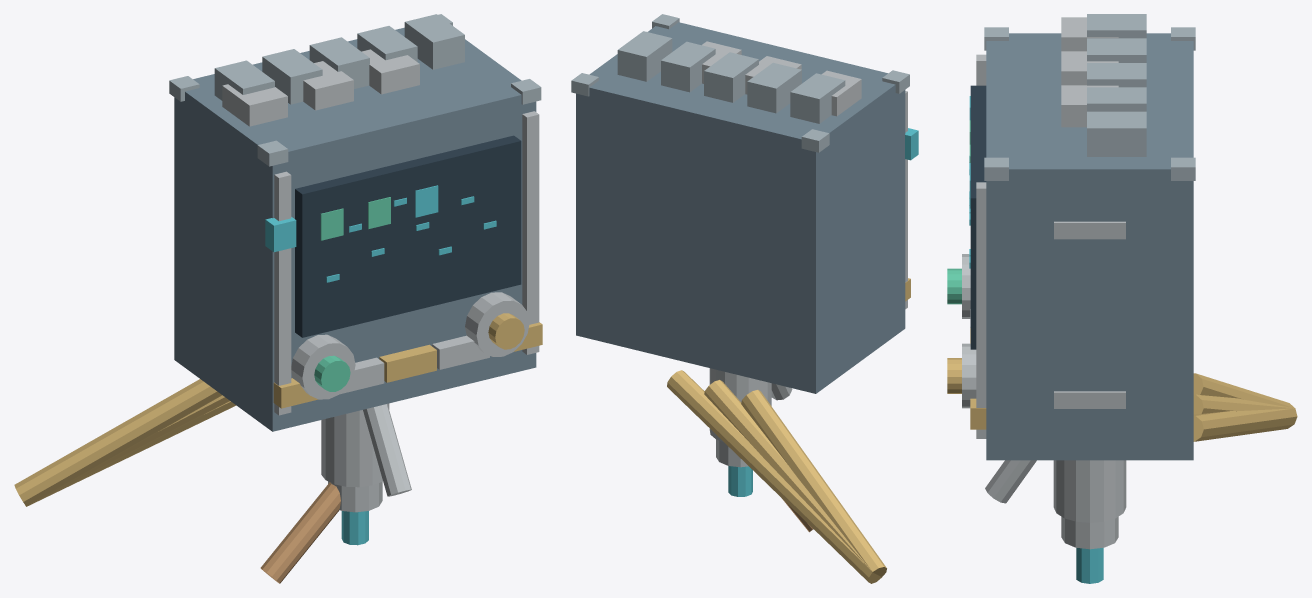
Rendered from 38_L78_LowKSurfaceChargingSensor.glb.
3 views of the same model, side by side, from view 1: azimuth 30°, elevation 25°; view 2: azimuth 150°, elevation 25°; view 3: azimuth 270°, elevation 25° (orthographic). The views are drawn at different scales.
Visible parts, largest first — view 1: LowKSurfaceChargingSensor_Node_0000, LowKSurfaceChargingSensor_Node_0007, LowKSurfaceChargingSensor_Node_0039, LowKSurfaceChargingSensor_Node_0006, LowKSurfaceChargingSensor_Node_0034, LowKSurfaceChargingSensor_Node_0005, LowKSurfaceChargingSensor_Node_0035, LowKSurfaceChargingSensor_Node_0028, LowKSurfaceChargingSensor_Node_0036, LowKSurfaceChargingSensor_Node_0019, LowKSurfaceChargingSensor_Node_0017, LowKSurfaceChargingSensor_Node_0021 (+17 smaller); view 2: LowKSurfaceChargingSensor_Node_0000, LowKSurfaceChargingSensor_Node_0041, LowKSurfaceChargingSensor_Node_0039, LowKSurfaceChargingSensor_Node_0040, LowKSurfaceChargingSensor_Node_0028, LowKSurfaceChargingSensor_Node_0025, LowKSurfaceChargingSensor_Node_0024, LowKSurfaceChargingSensor_Node_0026, LowKSurfaceChargingSensor_Node_0027, LowKSurfaceChargingSensor_Node_0034, LowKSurfaceChargingSensor_Node_0021, LowKSurfaceChargingSensor_Node_0044 (+5 smaller); view 3: LowKSurfaceChargingSensor_Node_0000, LowKSurfaceChargingSensor_Node_0034, LowKSurfaceChargingSensor_Node_0007, LowKSurfaceChargingSensor_Node_0028, LowKSurfaceChargingSensor_Node_0006, LowKSurfaceChargingSensor_Node_0041, LowKSurfaceChargingSensor_Node_0043, LowKSurfaceChargingSensor_Node_0027, LowKSurfaceChargingSensor_Node_0025, LowKSurfaceChargingSensor_Node_0024, LowKSurfaceChargingSensor_Node_0026, LowKSurfaceChargingSensor_Node_0038 (+14 smaller).
Boxes of the visible parts, x1,y1,x2,y2 form: LowKSurfaceChargingSensor_Node_0000: [174, 27, 536, 431]; LowKSurfaceChargingSensor_Node_0007: [295, 135, 521, 337]; LowKSurfaceChargingSensor_Node_0039: [14, 379, 221, 506]; LowKSurfaceChargingSensor_Node_0006: [522, 111, 539, 354]; LowKSurfaceChargingSensor_Node_0034: [321, 403, 389, 487]; LowKSurfaceChargingSensor_Node_0005: [274, 171, 291, 415]; LowKSurfaceChargingSensor_Node_0035: [260, 482, 340, 583]; LowKSurfaceChargingSensor_Node_0028: [404, 14, 464, 69]; LowKSurfaceChargingSensor_Node_0036: [363, 404, 411, 496]; LowKSurfaceChargingSensor_Node_0019: [465, 292, 529, 356]; LowKSurfaceChargingSensor_Node_0017: [291, 334, 355, 399]; LowKSurfaceChargingSensor_Node_0021: [222, 84, 287, 126]; LowKSurfaceChargingSensor_Node_0000: [576, 22, 905, 393]; LowKSurfaceChargingSensor_Node_0041: [667, 370, 881, 583]; LowKSurfaceChargingSensor_Node_0039: [741, 390, 886, 576]; LowKSurfaceChargingSensor_Node_0040: [704, 380, 870, 569]; LowKSurfaceChargingSensor_Node_0028: [617, 31, 672, 81]; LowKSurfaceChargingSensor_Node_0025: [747, 62, 801, 113]; LowKSurfaceChargingSensor_Node_0024: [790, 73, 845, 123]; LowKSurfaceChargingSensor_Node_0026: [704, 52, 758, 102]; LowKSurfaceChargingSensor_Node_0027: [661, 41, 715, 92]; LowKSurfaceChargingSensor_Node_0034: [709, 368, 771, 442]; LowKSurfaceChargingSensor_Node_0021: [821, 70, 861, 116]; LowKSurfaceChargingSensor_Node_0044: [728, 466, 752, 496]; LowKSurfaceChargingSensor_Node_0000: [986, 33, 1193, 460]; LowKSurfaceChargingSensor_Node_0034: [1053, 460, 1126, 522]; LowKSurfaceChargingSensor_Node_0007: [970, 85, 986, 349]; LowKSurfaceChargingSensor_Node_0028: [1087, 111, 1146, 156]; LowKSurfaceChargingSensor_Node_0006: [976, 182, 986, 438]; LowKSurfaceChargingSensor_Node_0041: [1193, 408, 1297, 441]; LowKSurfaceChargingSensor_Node_0043: [1061, 516, 1118, 549]; LowKSurfaceChargingSensor_Node_0027: [1087, 87, 1146, 111]; LowKSurfaceChargingSensor_Node_0025: [1087, 38, 1146, 62]; LowKSurfaceChargingSensor_Node_0024: [1087, 14, 1146, 38]; LowKSurfaceChargingSensor_Node_0026: [1087, 63, 1146, 87]; LowKSurfaceChargingSensor_Node_0038: [1054, 221, 1125, 239].
Size of the model in its own units: 0.6511 by 0.8138 by 0.4864.
